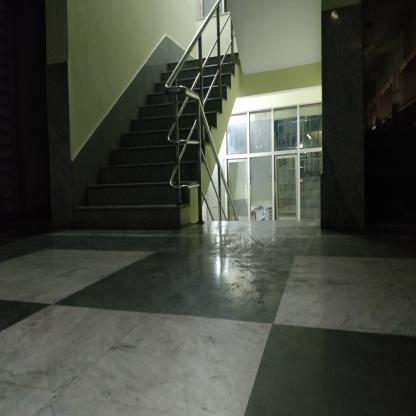stairs: (123, 123, 168, 230)
